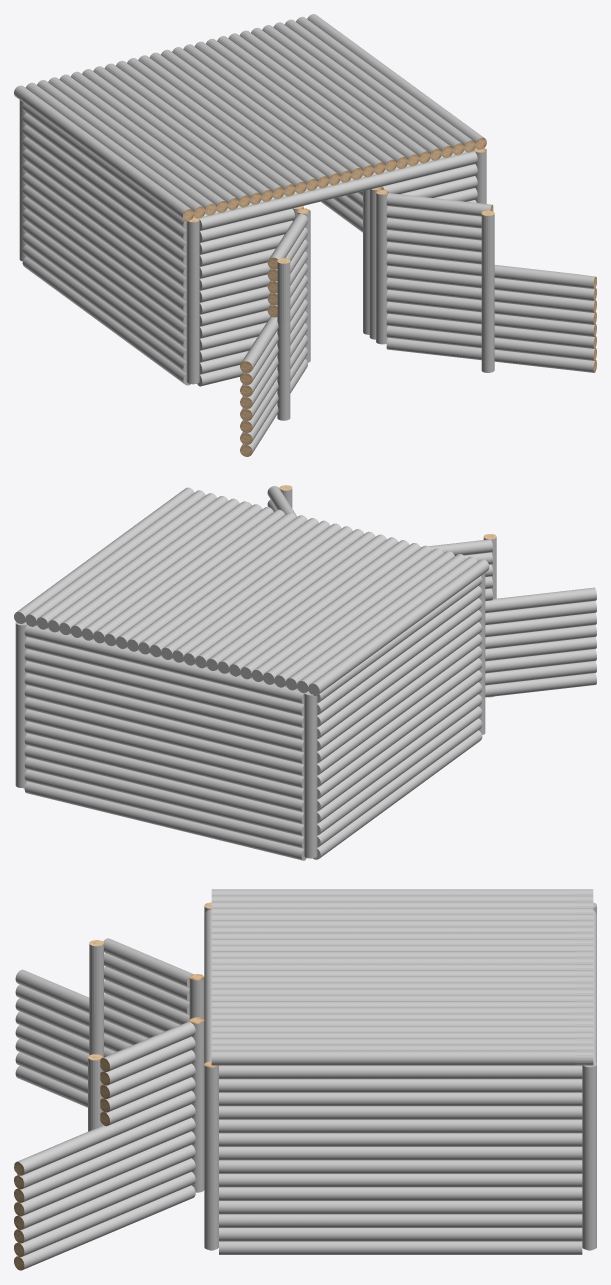
File: TrainingForestBarrack02.FBX
The picture shows the model from 3 angles, top to bottom: view 1: azimuth 30°, elevation 25°; view 2: azimuth 150°, elevation 25°; view 3: azimuth 270°, elevation 25°; orthographic projection. The views are drawn at different scales.
Visible parts, largest first — view 1: Cylinder002; view 2: Cylinder002; view 3: Cylinder002.
Boxes of the visible parts, <box> form: Cylinder002: <box>14,14,596,456</box>; Cylinder002: <box>14,485,596,860</box>; Cylinder002: <box>14,889,596,1270</box>.
Size of the model in its own units: 198 by 97.88 by 249.
